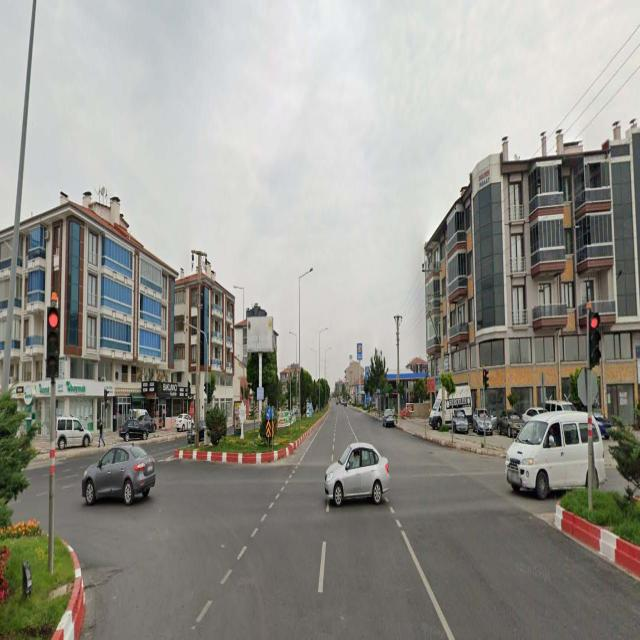dur: (190, 402, 194, 418)
ilerisol: (266, 407, 271, 420)
kirmizi: (48, 304, 58, 375), (589, 312, 600, 364)
